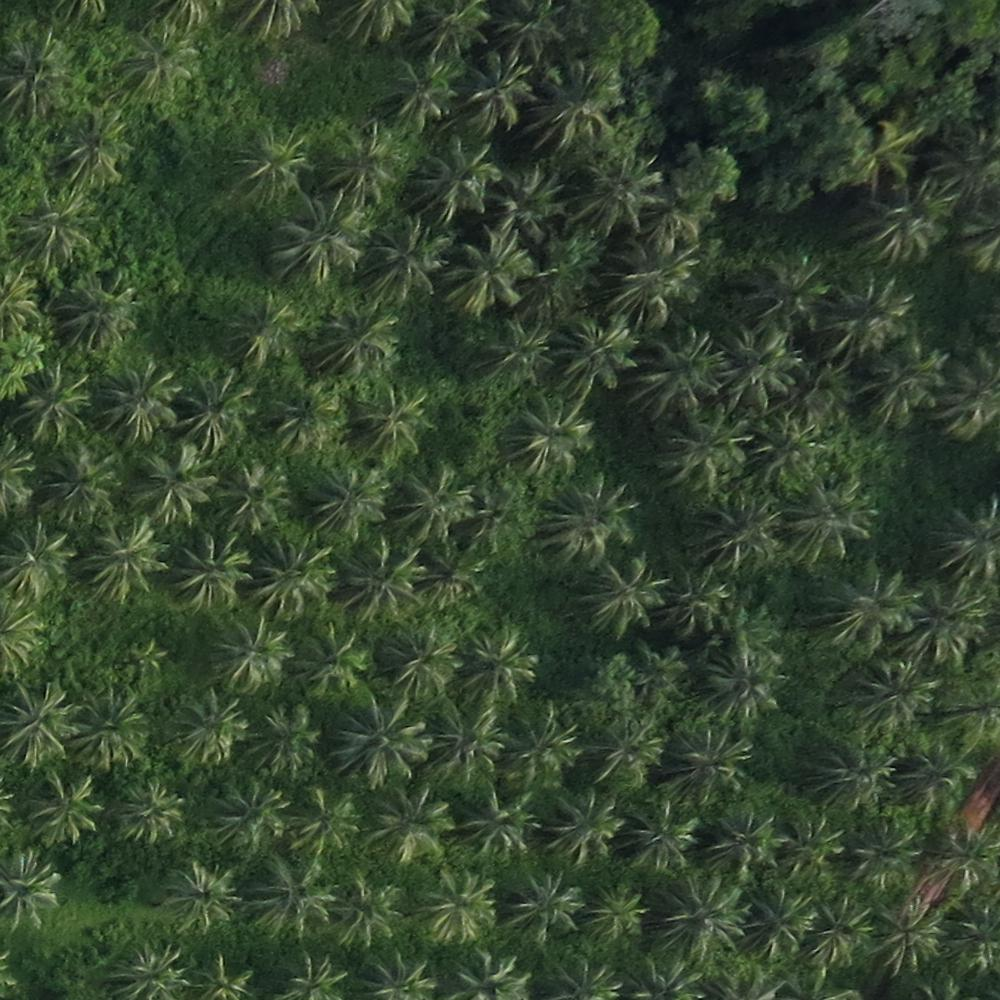Palm: (333, 696, 430, 791), (818, 564, 908, 651), (273, 198, 365, 283), (639, 332, 728, 416), (342, 380, 429, 462), (863, 344, 946, 429), (81, 516, 166, 598), (662, 875, 747, 957), (444, 230, 532, 308), (719, 323, 797, 410), (656, 413, 747, 486), (537, 485, 619, 566), (506, 404, 594, 479), (341, 539, 421, 621), (611, 238, 694, 317), (307, 461, 388, 541), (168, 533, 250, 612), (319, 130, 403, 207), (375, 619, 455, 699), (791, 485, 875, 561), (36, 452, 121, 527), (95, 358, 173, 439), (132, 445, 213, 523), (666, 727, 747, 805), (695, 491, 778, 567), (575, 152, 656, 229), (554, 315, 633, 393), (457, 54, 537, 131), (537, 69, 617, 146), (368, 790, 450, 865), (825, 281, 908, 355), (4, 682, 75, 768), (455, 786, 534, 863), (315, 300, 395, 376), (582, 557, 665, 630), (110, 30, 194, 102), (73, 689, 148, 769), (458, 626, 539, 700), (212, 461, 295, 533), (23, 769, 98, 848), (204, 780, 284, 854), (540, 789, 623, 859), (256, 536, 332, 612), (248, 859, 324, 935), (215, 618, 291, 693), (56, 278, 130, 355), (429, 701, 503, 778), (914, 585, 989, 660), (222, 292, 298, 366), (51, 111, 128, 184), (413, 140, 488, 214), (400, 465, 474, 540), (323, 867, 396, 943), (505, 875, 584, 945), (177, 375, 253, 447), (817, 738, 897, 806), (581, 721, 664, 786), (416, 872, 494, 941), (508, 705, 581, 778), (246, 704, 320, 775), (284, 786, 358, 857), (370, 221, 440, 296), (854, 660, 932, 727), (263, 380, 335, 452), (16, 196, 87, 269), (294, 622, 367, 693), (4, 525, 74, 598), (19, 372, 92, 442), (928, 824, 999, 895), (491, 164, 563, 234), (230, 127, 304, 195), (846, 821, 920, 889), (698, 649, 772, 717), (668, 567, 738, 638), (898, 740, 971, 808), (872, 899, 942, 969), (172, 697, 246, 763), (746, 889, 817, 957), (165, 865, 237, 932), (385, 58, 455, 126), (585, 881, 652, 952), (115, 778, 185, 844), (1, 851, 61, 927), (484, 313, 550, 381), (630, 802, 700, 866), (706, 808, 777, 868), (777, 811, 847, 871), (811, 898, 874, 963)
